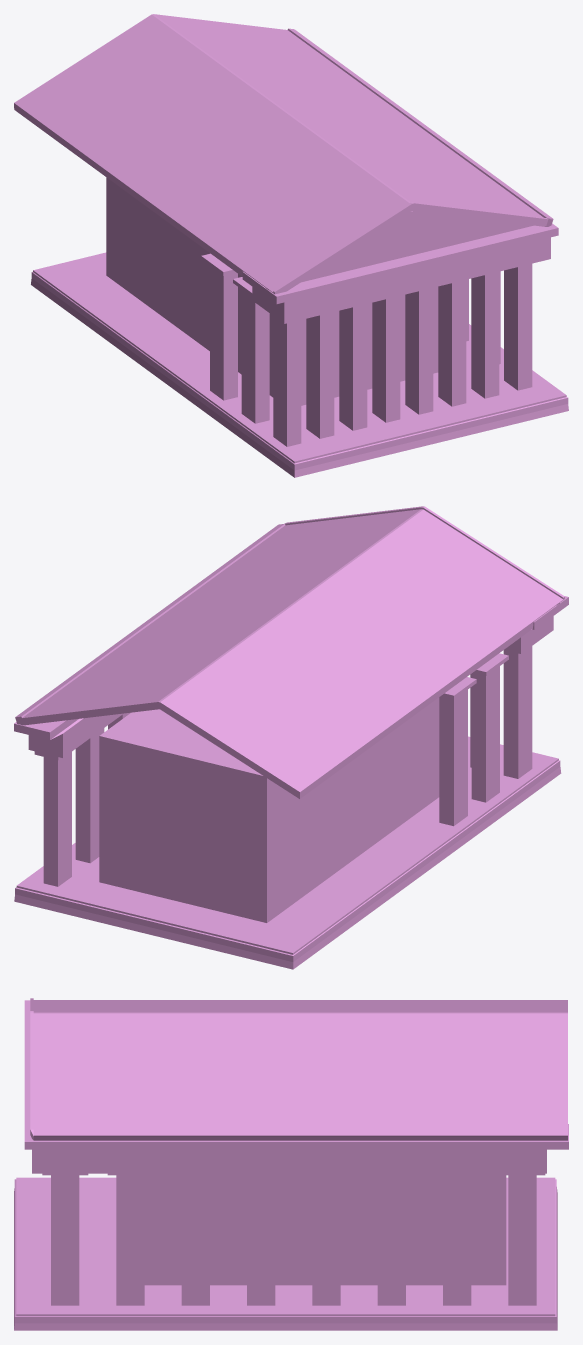
File: Parthenon.fbx
3 renders of one model, top to bottom at view 1: azimuth 30°, elevation 25°; view 2: azimuth 150°, elevation 25°; view 3: azimuth 270°, elevation 25°, orthographic. The views are drawn at different scales.
Parts seen in each view (by area): view 1: Cube1; view 2: Cube1; view 3: Cube1.
Part boxes in pixels (x1=…): Cube1: x1=14, y1=14, x2=568, y2=477; Cube1: x1=14, y1=506, x2=568, y2=969; Cube1: x1=14, y1=998, x2=568, y2=1330.
Bounding box in the file's own units: 1598 × 1263 × 2595.
